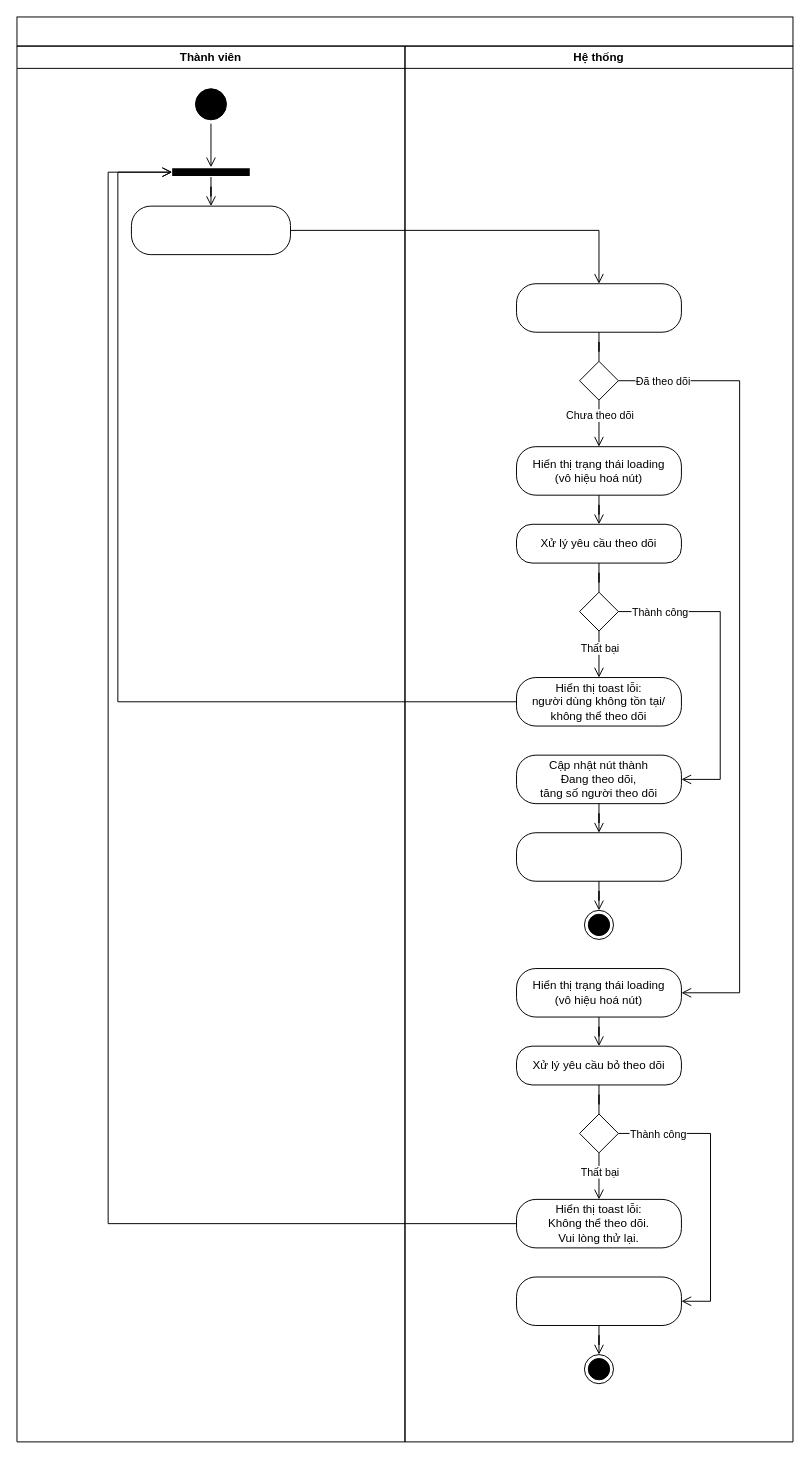
Image size: 810x1459. Some labels were removed from this diagram. Here are the shapes that lost their labels. From the top down, the centre of each, then its label:
At (x=404, y=31): "THEO DÕI NGƯỜI DÙNG".
At (x=210, y=230): "Nhấn nút Theo dõi/ Đang theo dõi".
At (x=598, y=307): "Xác định trạng thái theo dõi hiện tại".
At (x=598, y=856): "Gửi thông báo đến người được theo dõi".
At (x=598, y=1301): "Cập nhật nút thành Theo dõi, giảm số người theo dõi".
